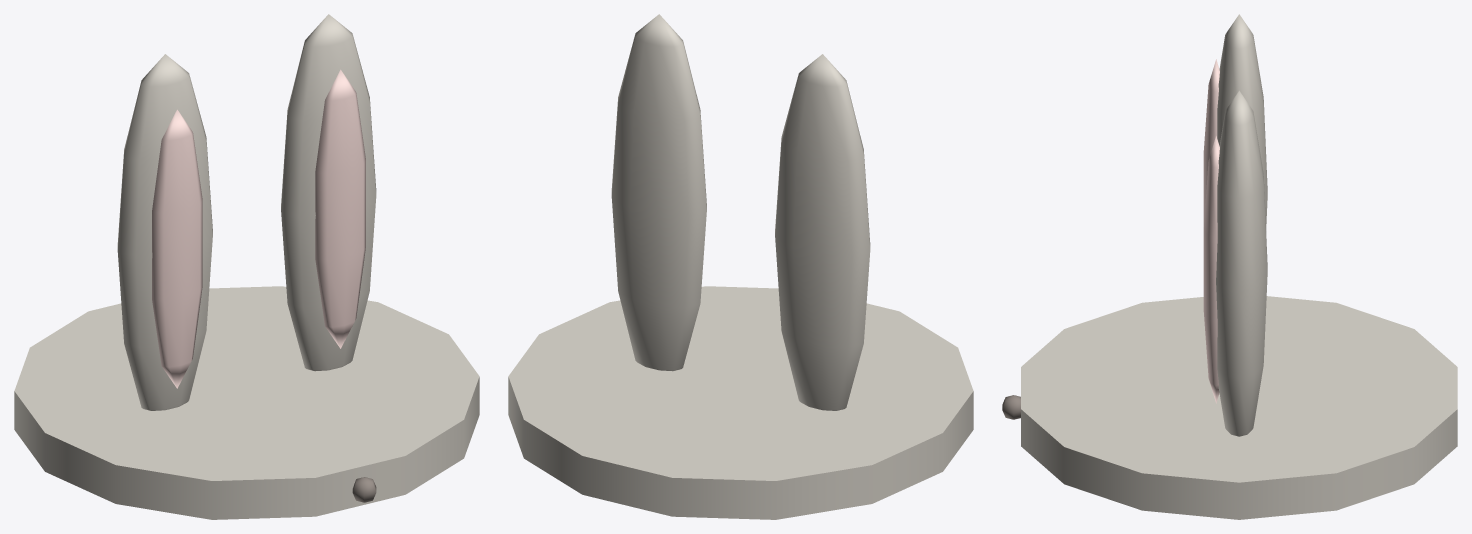
The model's file is hat_bunny.glb.
The picture shows the model from 3 angles, left to right: view 1: azimuth 30°, elevation 25°; view 2: azimuth 150°, elevation 25°; view 3: azimuth 270°, elevation 25°; orthographic projection. The views are drawn at different scales.
Visible parts, largest first — view 1: hat_bunny; view 2: hat_bunny; view 3: hat_bunny.
Boxes of the visible parts, left/top/right/bottom form: hat_bunny: left=14, top=14, right=479, bottom=519; hat_bunny: left=508, top=14, right=973, bottom=519; hat_bunny: left=1002, top=14, right=1457, bottom=519.
Bounding box in the file's own units: 27.2 × 25 × 27.65.
